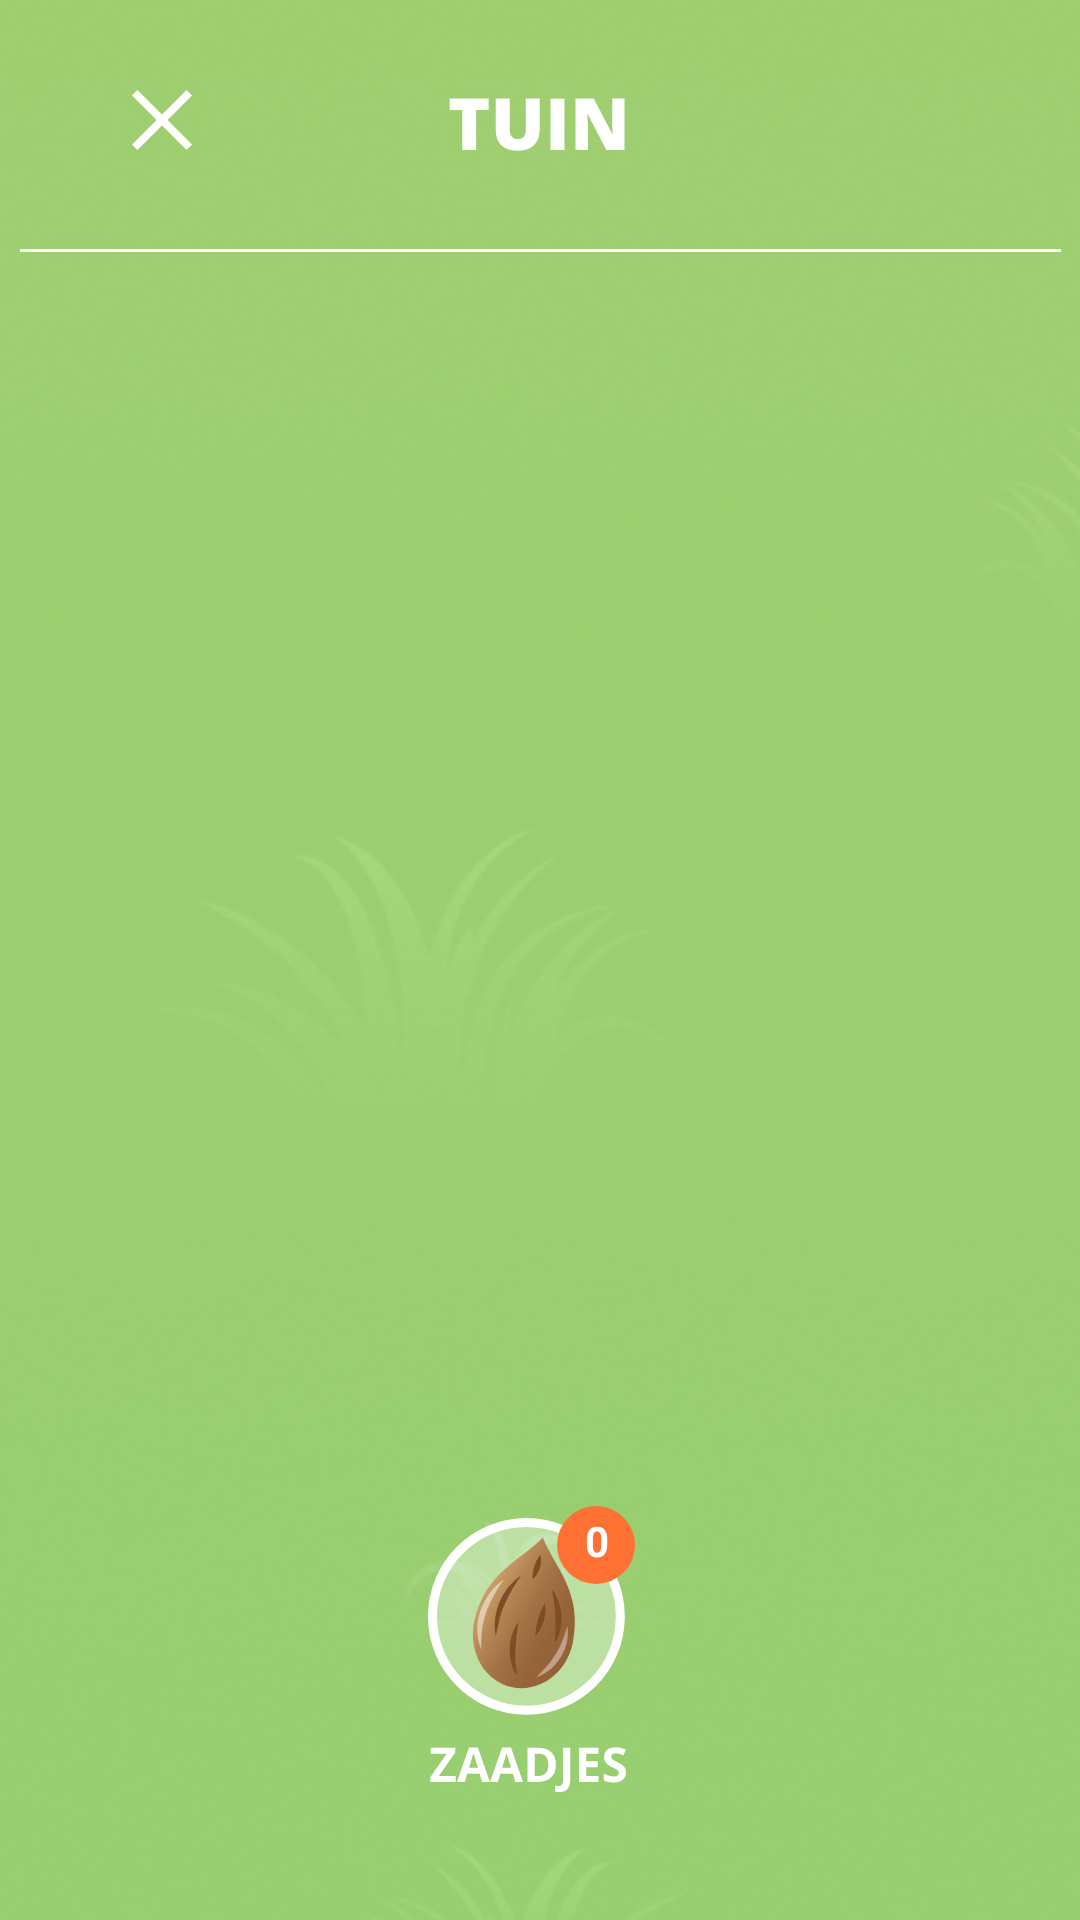

Where to tap for icons on this 1080px x 1920px app screen, as [x,y]:
close: [162,120]
